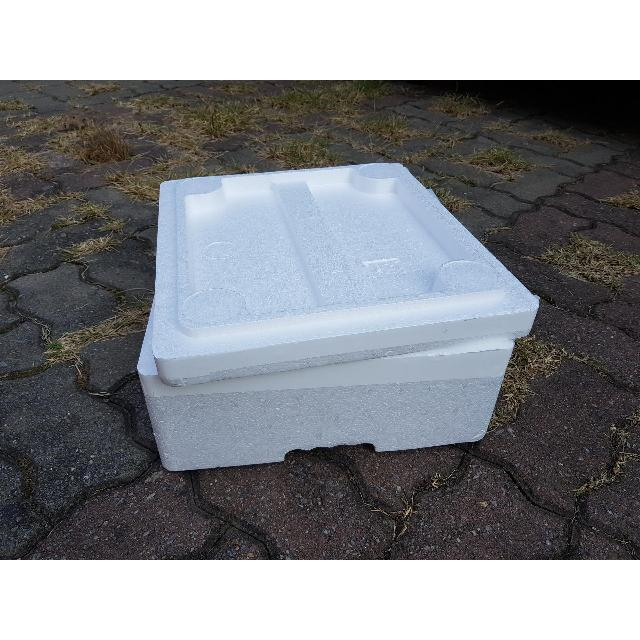Plastico descartable: (136, 163, 541, 474)
